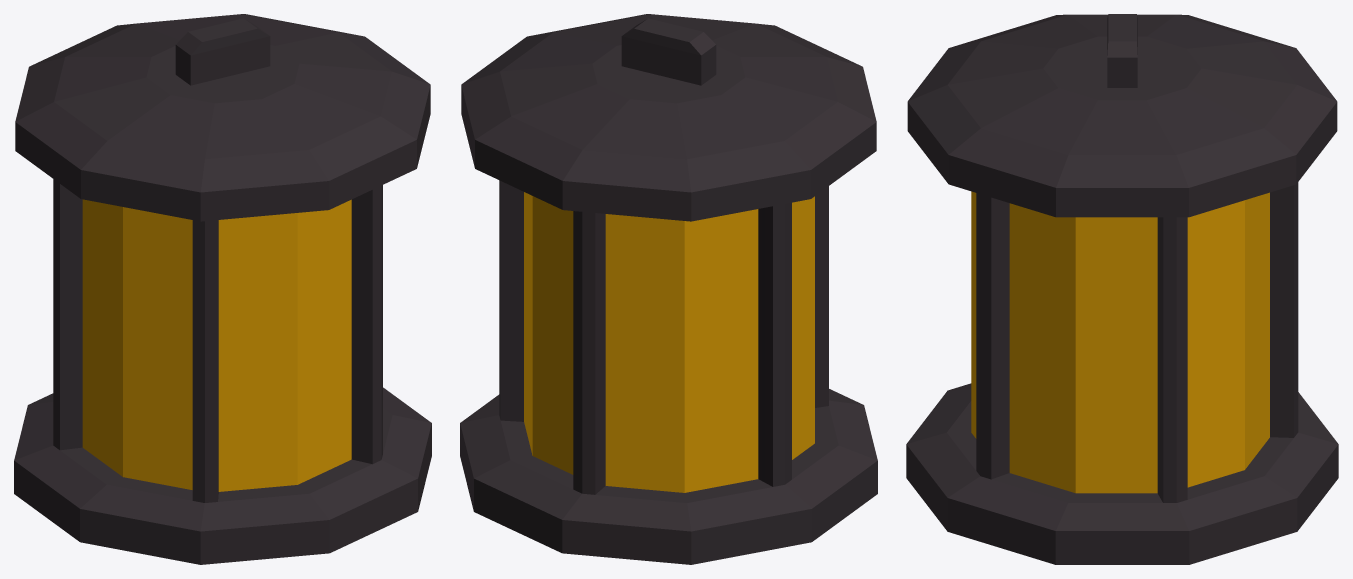
The model's file is Lamp.fbx.
The picture shows the model from 3 angles, left to right: view 1: azimuth 30°, elevation 25°; view 2: azimuth 150°, elevation 25°; view 3: azimuth 270°, elevation 25°; orthographic projection.
Parts seen in each view (by area): view 1: Cylinder; view 2: Cylinder; view 3: Cylinder.
Part boxes in pixels (bbox=[...]): Cylinder: bbox=[14, 14, 431, 564]; Cylinder: bbox=[460, 14, 877, 564]; Cylinder: bbox=[906, 14, 1338, 564].
Bounding box in the file's own units: 190 × 242 × 200.
